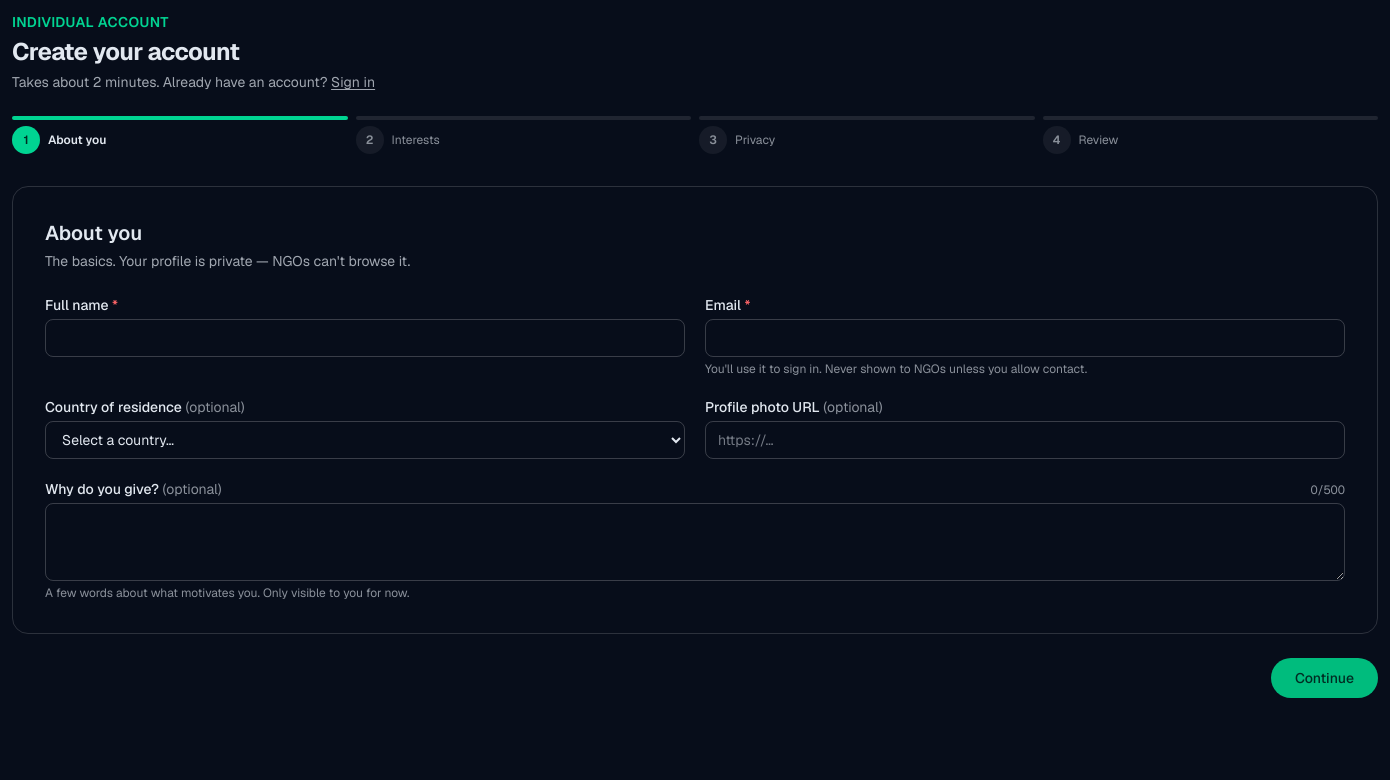
Test case: IndividualSignUpWizard › requires a name and an email
The image size is (1390, 780).
Step 1. Click the button "Continue" → click(1324, 678), box [1271,658,1378,698]
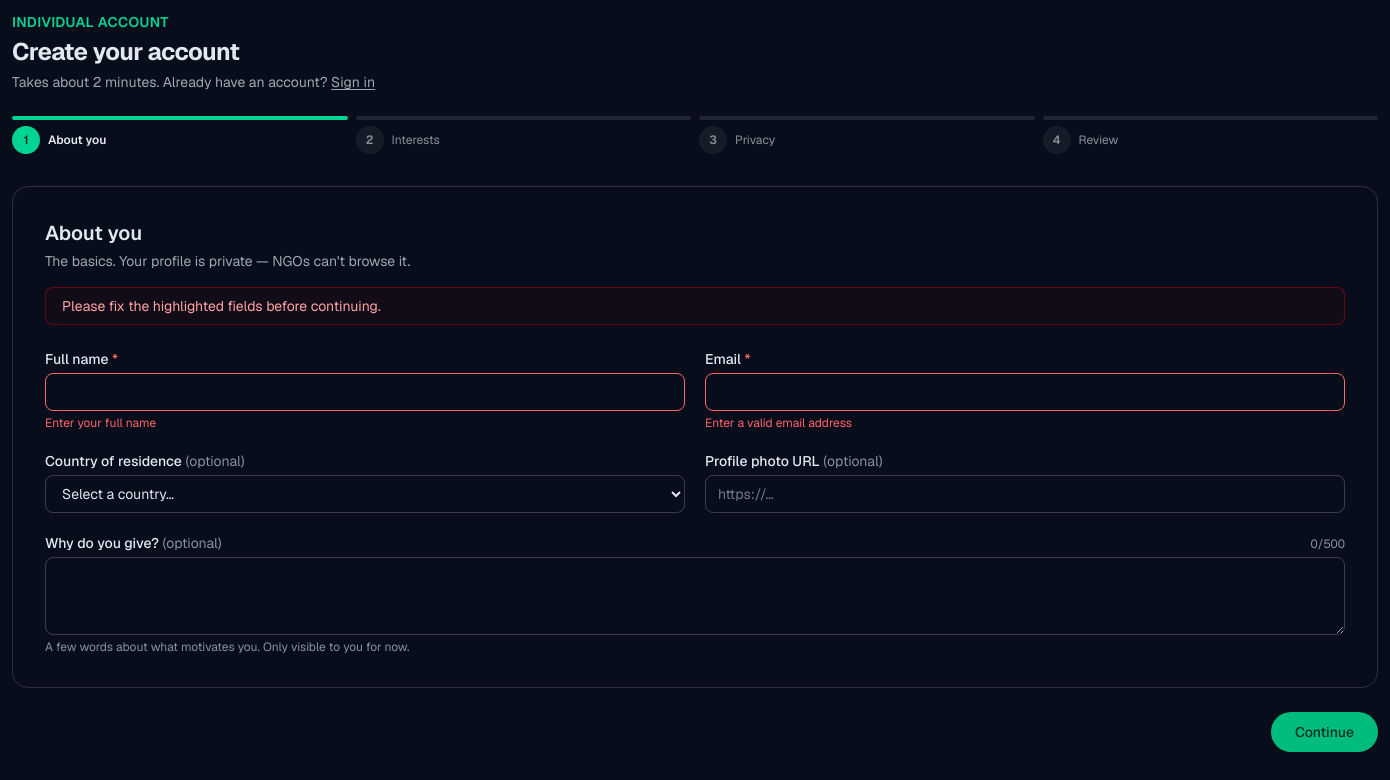
expect the text "Enter your full name" is shown: met, box [45,415,156,431]
expect the text "Enter a valid email address" is shown: met, box [705,415,852,431]
